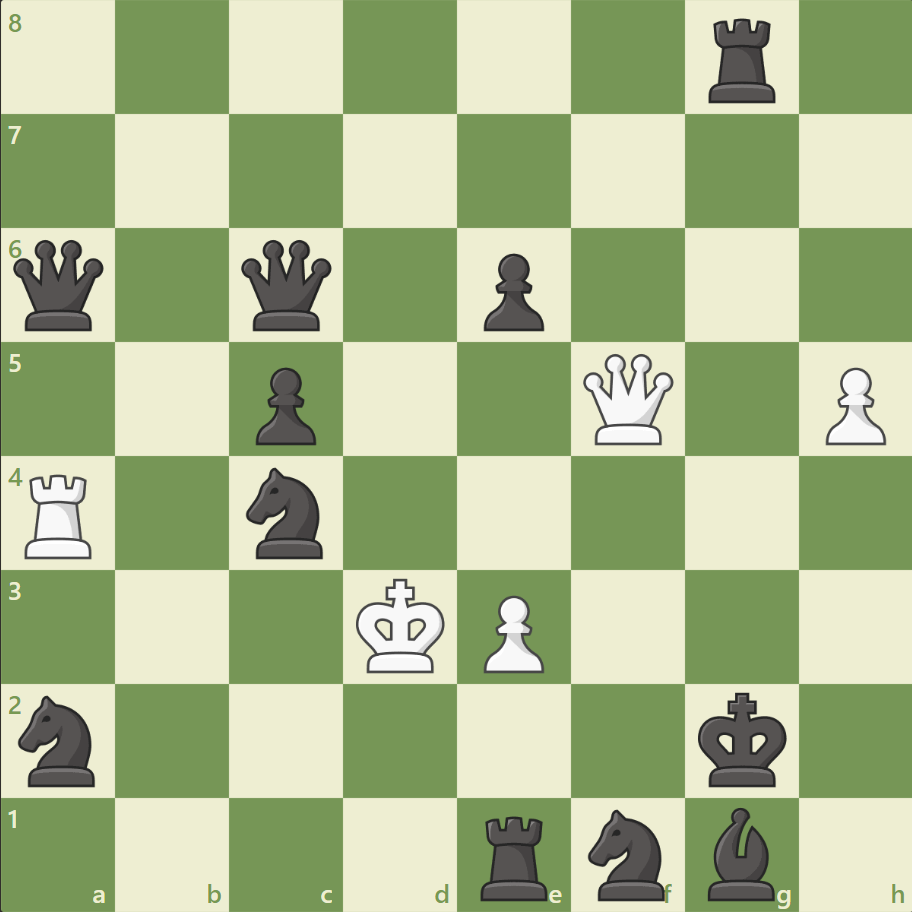K: (351, 571, 451, 679)
P: (474, 586, 549, 677), (815, 359, 889, 450)
Q: (578, 349, 677, 449)
R: (19, 466, 102, 563)
b: (698, 801, 782, 904)
k: (692, 685, 792, 793)
n: (238, 461, 335, 564), (11, 688, 108, 791), (579, 802, 676, 904)
p: (474, 246, 549, 337), (247, 359, 322, 450)
q: (10, 236, 109, 335), (237, 236, 336, 335)
r: (473, 806, 556, 904), (700, 12, 783, 109)
